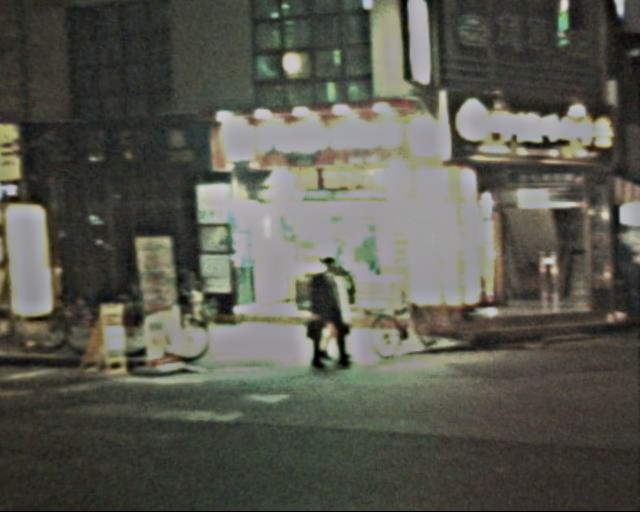person: (283, 253, 355, 376)
